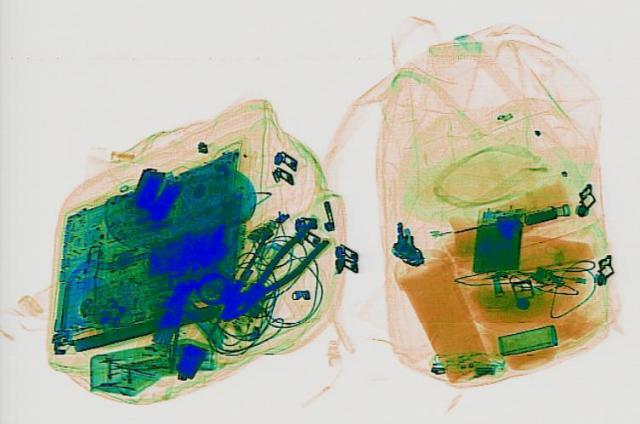Pliers: (208, 220, 339, 325)
